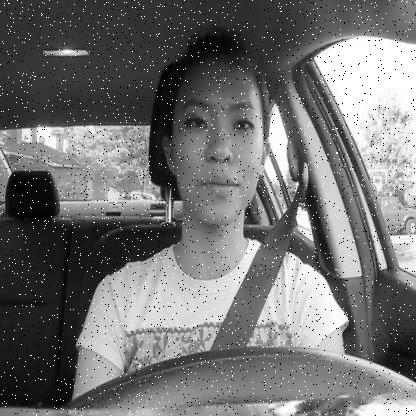seatbelt: (150, 15, 316, 362)
